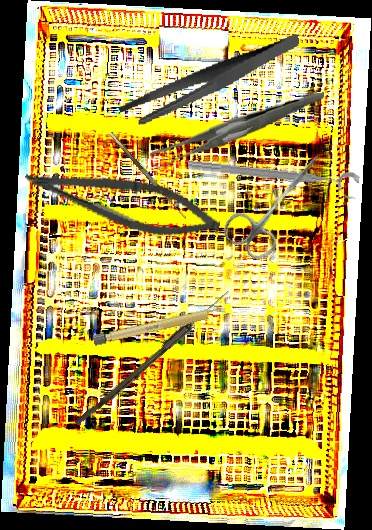Dressing Forceps: (111, 32, 309, 129), (147, 92, 328, 169)
Fixation Ring: (185, 155, 361, 202)
Hook Surgical: (108, 127, 192, 221)
Iris Scissors: (218, 136, 339, 266)
Micro Scissor: (18, 159, 226, 248)
Scalpel Handle: (92, 304, 227, 347)
Surgical Spoon: (74, 286, 232, 430)
